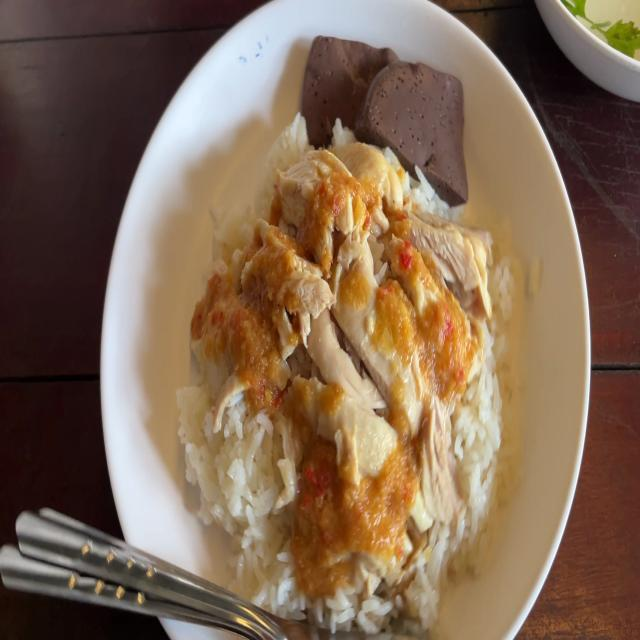boiled_chicken: (236, 158, 464, 532)
boiled_chicken_blood_jelly: (365, 52, 473, 198), (302, 26, 383, 155)
chicken_rice: (175, 24, 506, 640)
